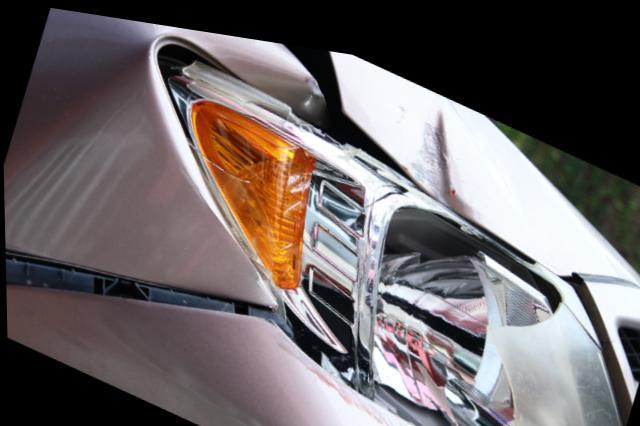dent: (3, 6, 158, 205), (359, 86, 471, 200)
dislocated part: (4, 251, 438, 426)
lamp broken: (170, 50, 627, 426)
scratch: (276, 323, 428, 426)
